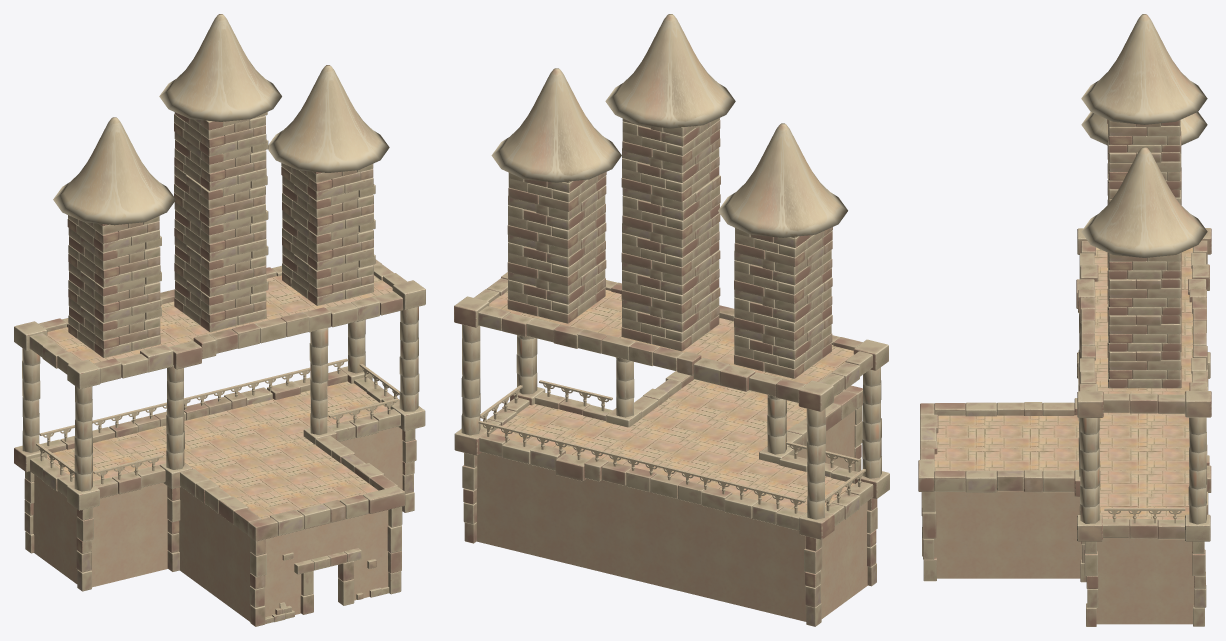
File: dungeon3.fbx
3 views of the same model, side by side, from view 1: azimuth 30°, elevation 25°; view 2: azimuth 150°, elevation 25°; view 3: azimuth 270°, elevation 25° (orthographic). The views are drawn at different scales.
Parts seen in each view (by area): view 1: dungeon3_LOD0; view 2: dungeon3_LOD0; view 3: dungeon3_LOD0.
Boxes of the visible parts, x1,y1,x2,y2 form: dungeon3_LOD0: (14, 14, 425, 626); dungeon3_LOD0: (454, 14, 889, 626); dungeon3_LOD0: (918, 14, 1211, 626).
Size of the model in its own units: 19.07 by 27.01 by 13.55.
